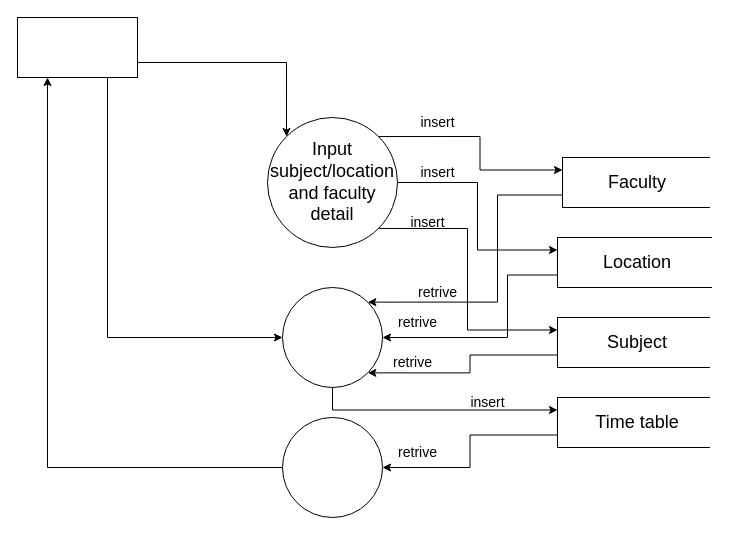
Some shapes in this 750 by 535 pixel diagram are drawn without their labels. Each missing label, with the box of its shape:
Display time table: (282, 416, 382, 518)
Faculty/User: (16, 16, 138, 78)
Input time table: (282, 286, 382, 388)
